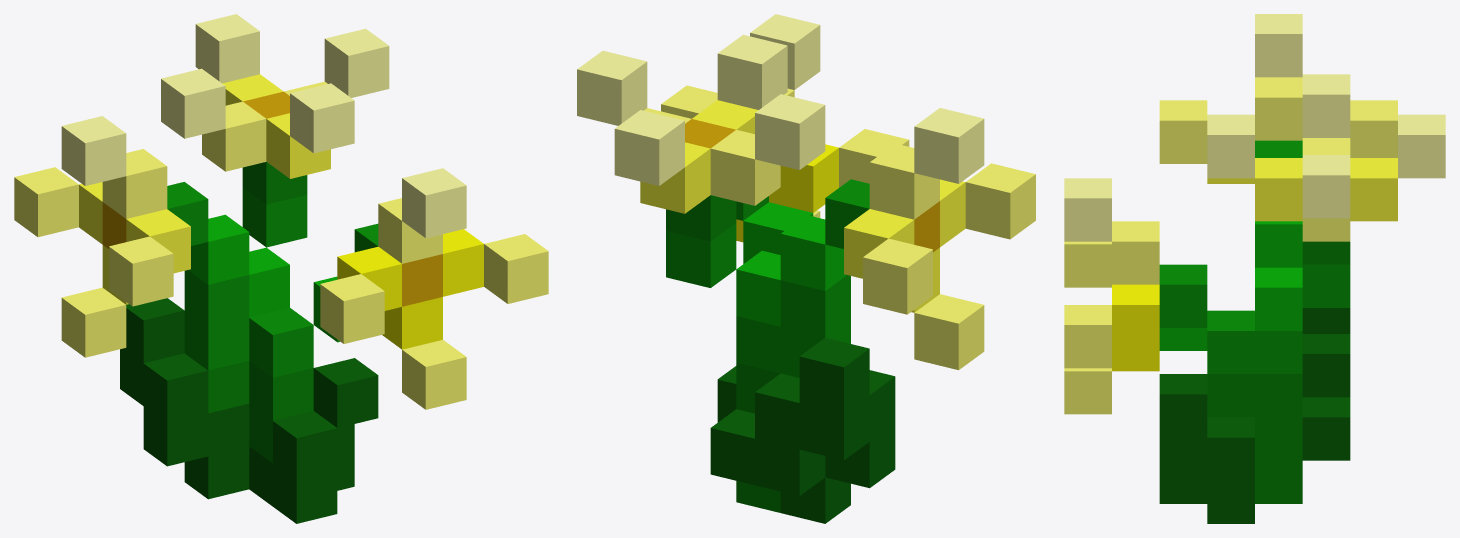
File: flower-4.glb
3 renders of one model, left to right at view 1: azimuth 30°, elevation 25°; view 2: azimuth 150°, elevation 25°; view 3: azimuth 270°, elevation 25°, orthographic. The views are drawn at different scales.
Visible parts, largest first — view 1: Node1; view 2: Node1; view 3: Node1.
Boxes of the visible parts, x1,y1,x2,y2 form: Node1: (14,14,548,523); Node1: (577,14,1035,523); Node1: (1064,14,1445,523).
Size of the model in its own units: 0.9 by 0.9 by 0.8.
